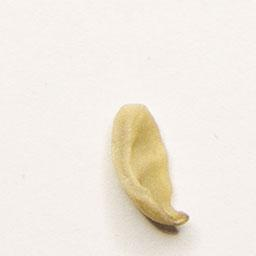defect: (105, 94, 193, 232)
